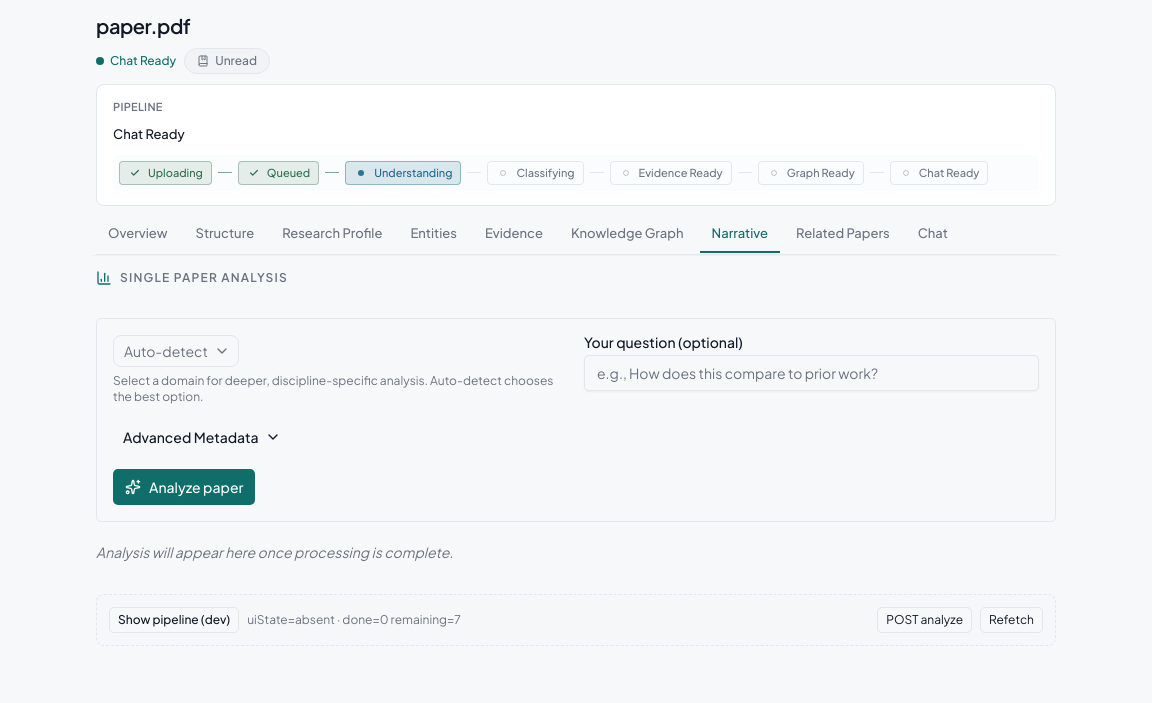
PaperOverviewPage — single-paper analysis › posts the selected domain, metadata, and question, then renders the result
Expected: the heading "paper.pdf" is shown, [96,13,190,38]
Click the dropdown named "Select paper domain".
click(176, 351)  # box [113,335,239,367]
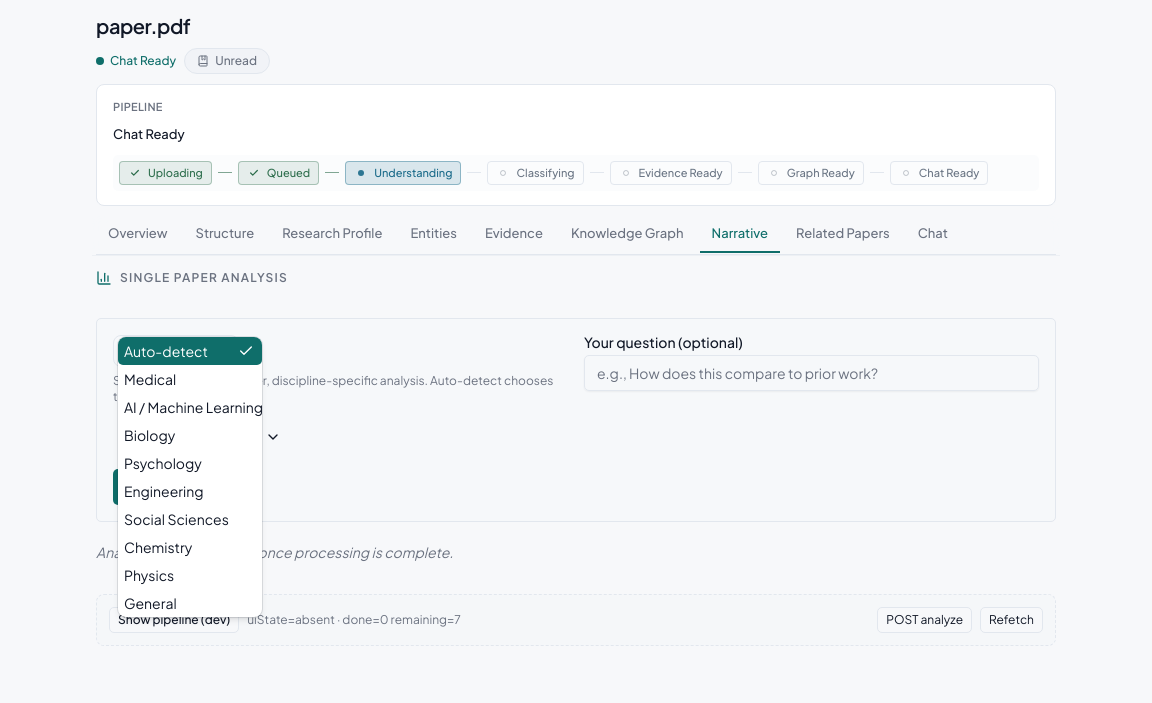
Click the option "Medical".
click(150, 379)  # box [124,370,176,388]
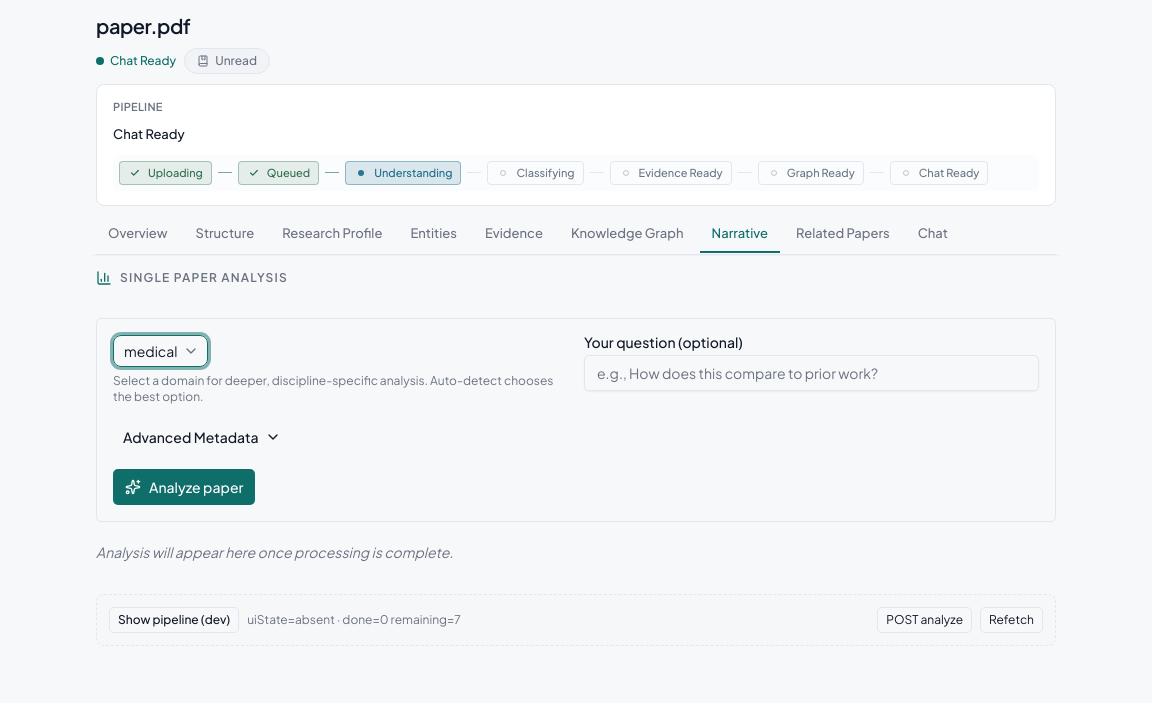
Type "methodology?" into the field labelled "Your question (optional)".
click(812, 373); type("methodology?")  # box [584,355,1039,391]
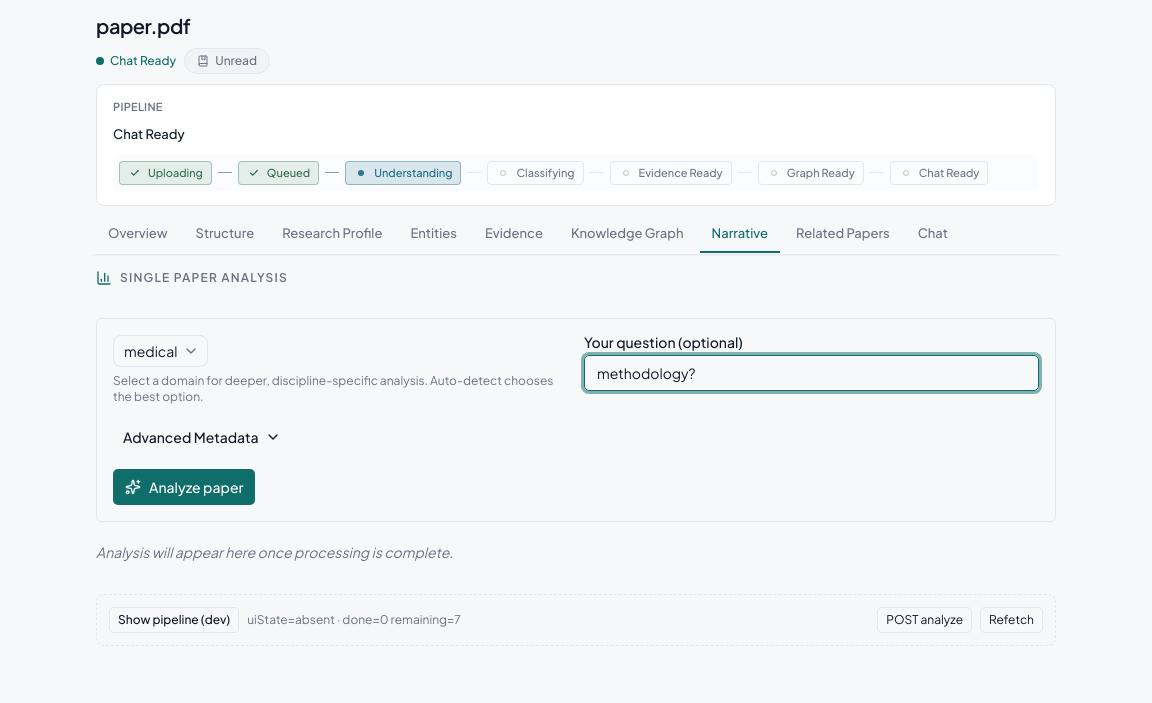
Click the button "Advanced Metadata".
click(202, 437)  # box [113,421,290,453]
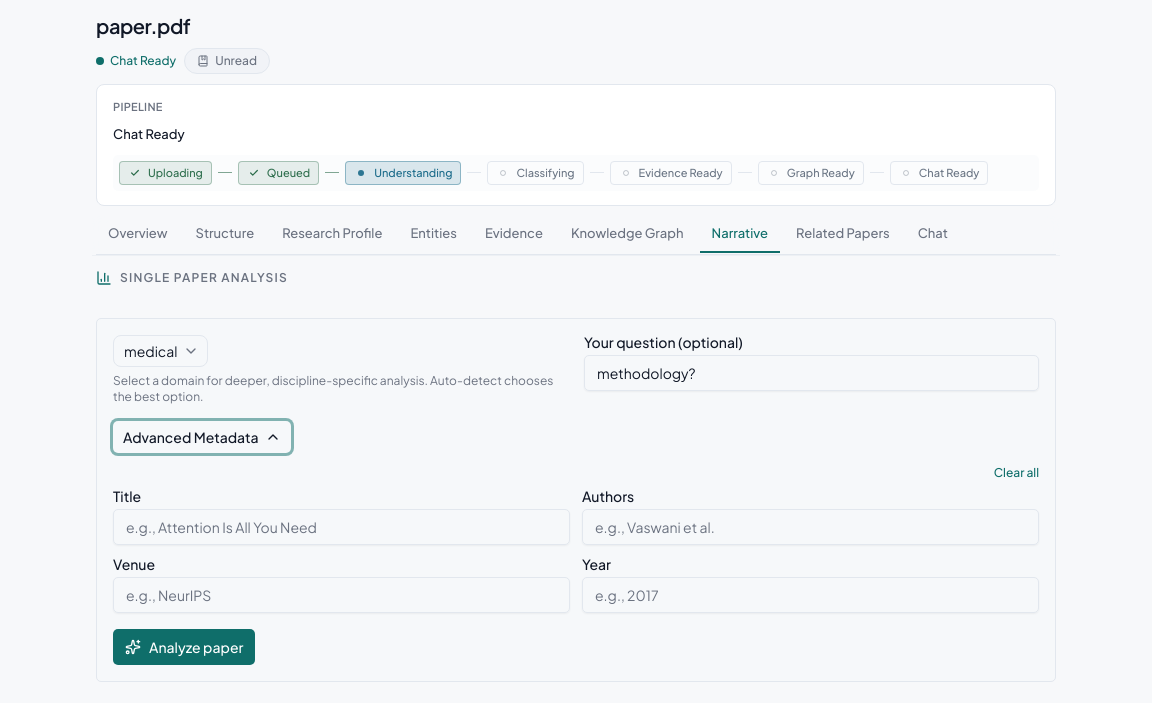
Type "My Title" into the field labelled "Title".
click(342, 527); type("My Title")  # box [113,509,570,545]
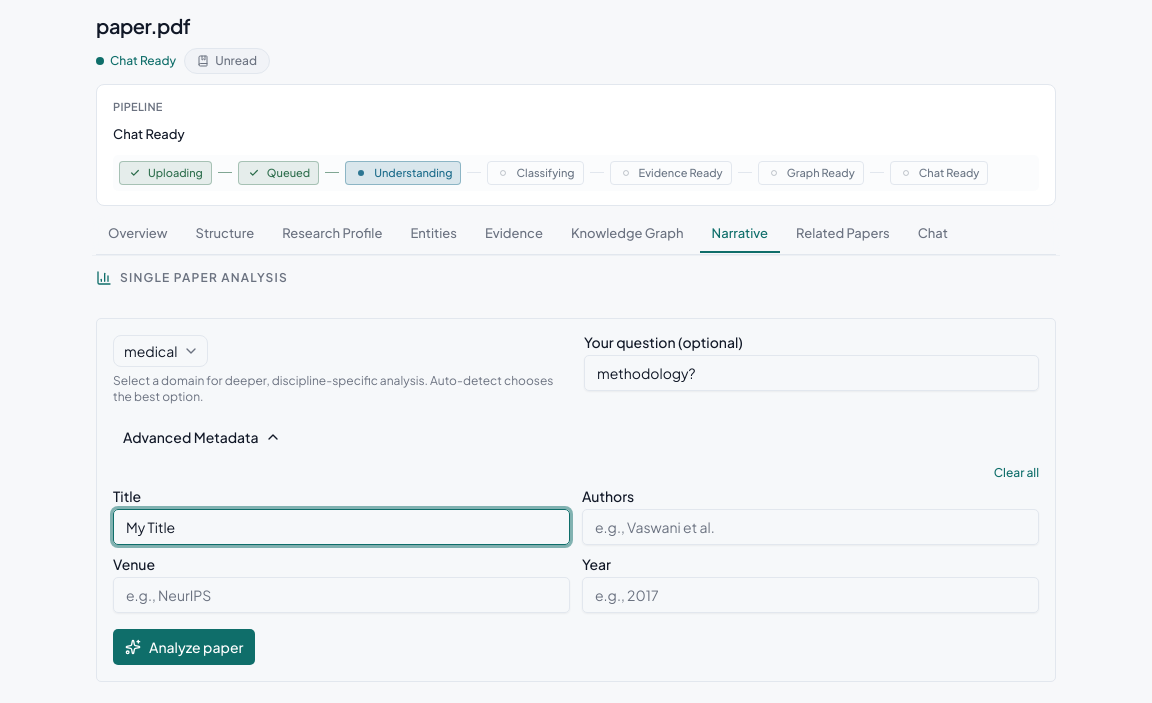
Click the button "Analyze paper".
click(184, 647)  # box [113,629,255,665]
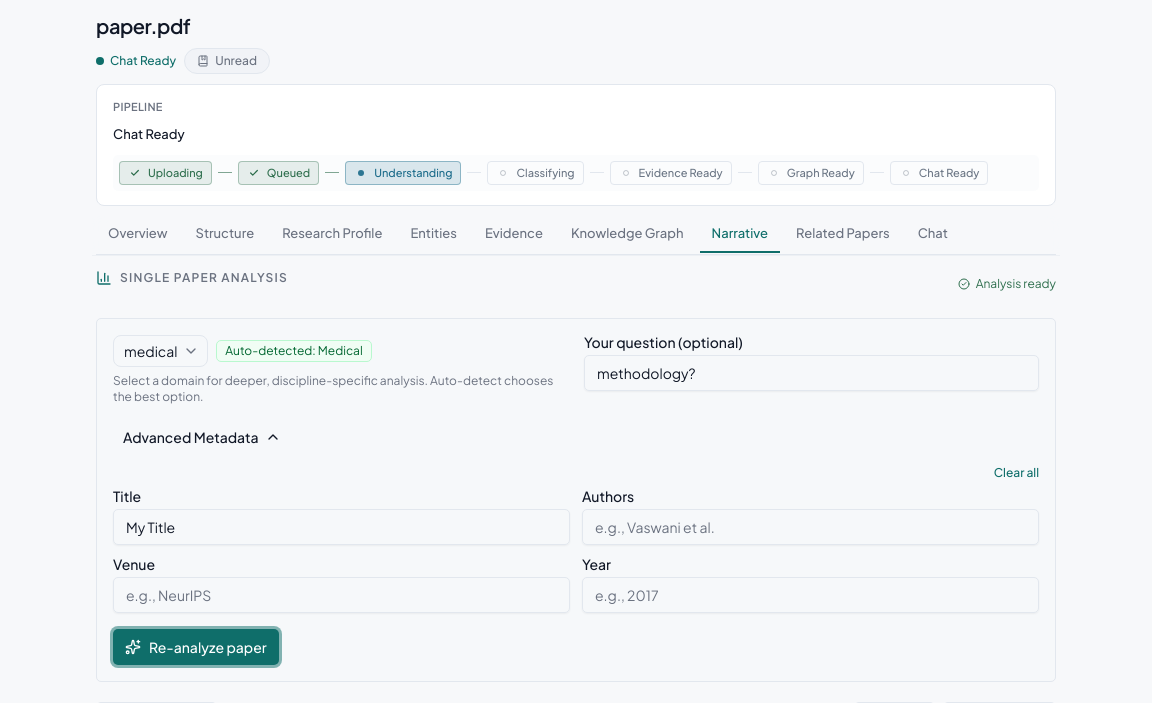
Expected: the button "Auto-detected: Medical" is shown, [216,340,372,362]
